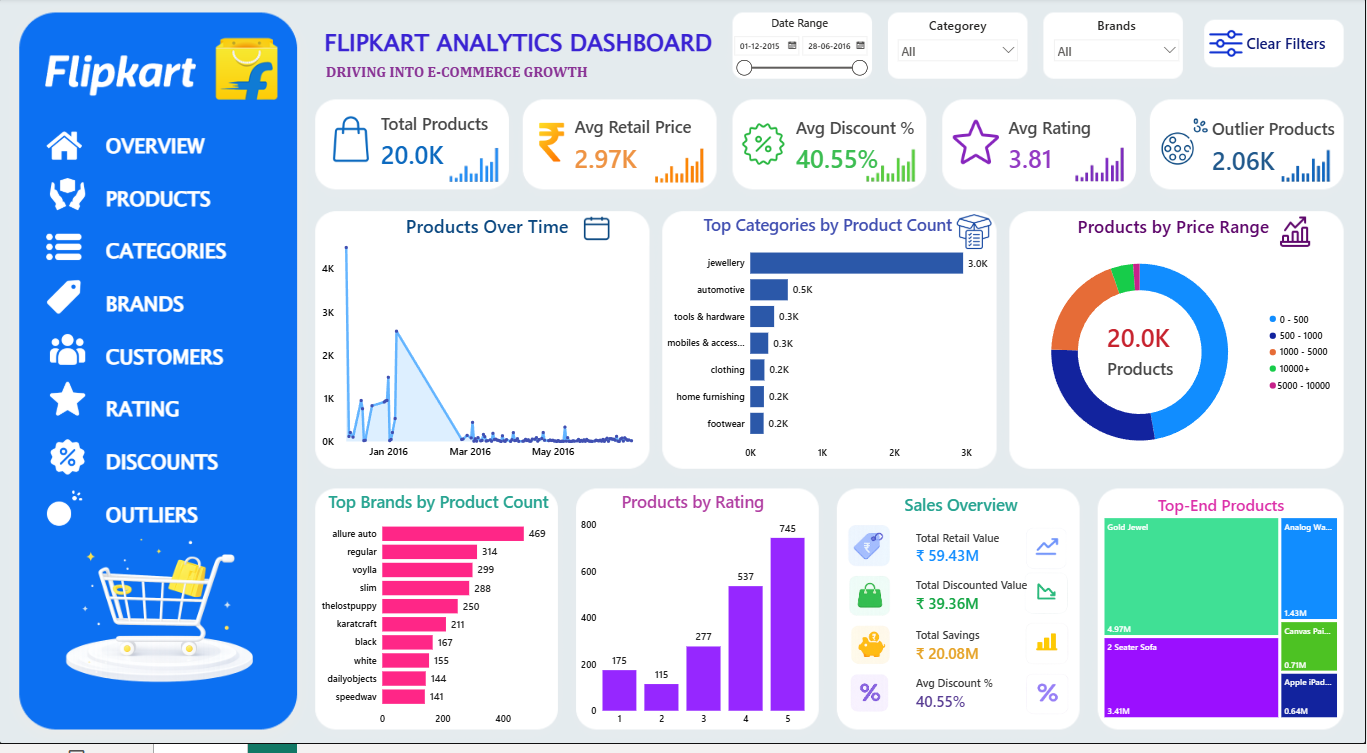

The page's visual inventory and layout, read from the dashboard file:
{"tool":"powerbi","page":{"name":"Page 1","canvas":[2200,1200],"ordinal":0},"visuals":[{"type":"image","box":[55.3,0,413.5,227.2],"z":0},{"type":"cardVisual","fields":{"Data":["flipkart_products.Outlier Products"]},"box":[1922.3,173.1,269.4,132.7],"z":0,"group":"g6"},{"type":"cardVisual","fields":{"Data":["flipkart_products.Avg Overall Rating"]},"box":[1594.5,180.9,285.5,112.6],"z":0,"group":"g5"},{"type":"image","box":[54.2,209.1,101,56.8],"z":0,"group":"g1"},{"type":"textbox","box":[494.6,40.2,671.6,74.4],"z":1000},{"type":"image","box":[1870,172.9,74.4,116.6],"z":1000,"group":"g6"},{"type":"image","box":[1534.2,174.9,74.4,116.6],"z":1000,"group":"g5"},{"type":"image","box":[54.2,372.4,100,56.8],"z":1000,"group":"g1"},{"type":"textbox","box":[520.8,98.5,671.6,80.4],"z":2000},{"type":"image","box":[2020.8,223.2,162.9,92.5],"z":2000,"group":"g6"},{"type":"image","box":[1636.7,225.2,267.4,92.5],"z":2000,"group":"g5"},{"type":"image","box":[60.2,289.8,100.5,56.8],"z":2000,"group":"g1"},{"type":"textbox","box":[166.9,209.1,295.6,796.3],"z":3000},{"type":"image","box":[54.2,453.1,100,56.8],"z":3000,"group":"g1"},{"type":"group","id":"g1","title":"Group 1","box":[54.2,209.1,106.6,639.4],"z":4000},{"type":"image","box":[60.2,537.7,100.5,56.8],"z":4000,"group":"g1"},{"type":"image","box":[60.2,616.4,100.5,57.1],"z":5000,"group":"g1"},{"type":"image","box":[0,792.2,520.8,408.2],"z":5000},{"type":"group","id":"g2","title":"Group 2","box":[528.8,168.9,368,148.8],"z":6000},{"type":"cardVisual","fields":{"Data":["flipkart_products.Total Products"]},"box":[585.1,168.9,271.4,124.7],"z":6000,"group":"g2"},{"type":"cardVisual","fields":{"Data":["flipkart_products.Avg Retail Price"]},"box":[896.7,179,271.4,114.6],"z":6000,"group":"g3"},{"type":"image","box":[60.2,708.8,100.5,57.1],"z":6000,"group":"g1"},{"type":"group","id":"g3","title":"Group 3","box":[850.5,166.9,378,148.8],"z":7000},{"type":"image","box":[850.5,166.9,76.4,130.7],"z":7000,"group":"g3"},{"type":"image","box":[528.8,168.9,74.4,116],"z":7000,"group":"g2"},{"type":"image","box":[56.2,791.5,98.5,57.1],"z":7000,"group":"g1"},{"type":"cardVisual","fields":{"Data":["flipkart_products.Avg Discount %"]},"box":[1252.7,172.9,253.4,128.7],"z":8000,"group":"g4"},{"type":"image","box":[1300.9,223.2,267.4,92.5],"z":8000},{"type":"image","box":[625.3,225.2,271.4,92.5],"z":8000,"group":"g2"},{"type":"group","id":"g4","title":"Group 4","box":[1192.4,172.9,313.7,128.7],"z":9000},{"type":"image","box":[961.1,223.2,267.4,92.5],"z":9000,"group":"g3"},{"type":"group","id":"g5","title":"Group 5","box":[1534.2,174.9,370,142.8],"z":10000},{"type":"image","box":[1192.4,176.9,74.4,116.6],"z":10000,"group":"g4"},{"type":"group","id":"g6","title":"Group 6","box":[1870,172.9,321.8,142.8],"z":11000},{"type":"lineChart","title":"Products Over Time","fields":{"Y":["CountNonNull(flipkart_products.uniq_id)"],"Category":["flipkart_products.Crawl Date"]},"box":[512.7,345.8,544.9,406.2],"z":12000},{"type":"image","box":[933,347.9,56.3,44.2],"z":13000},{"type":"clusteredBarChart","title":"Top Categories by Product Count","fields":{"Category":["flipkart_products.Main Category"],"Y":["CountNonNull(flipkart_products.uniq_id)"]},"box":[1057.6,345.8,550.9,406.2],"z":14000},{"type":"donutChart","title":"Products by Price Range","fields":{"Y":["CountNonNull(flipkart_products.uniq_id)"],"Category":["flipkart_products.Price Range"]},"box":[1622.7,347.9,532.8,404.2],"z":15000},{"type":"cardVisual","fields":{"Data":["flipkart_products.Total Products"]},"box":[1753.4,484.6,168.9,162.9],"z":16000},{"type":"image","box":[1534.2,347.9,68.4,56.3],"z":17000},{"type":"image","box":[2050.9,349.9,68.4,52.3],"z":18000},{"type":"clusteredBarChart","title":"Top Brands by Product Count","fields":{"Y":["CountNonNull(flipkart_products.uniq_id)"],"Category":["flipkart_products.Brand Clean"]},"box":[512.7,792.2,388.1,388.1],"z":19000},{"type":"clusteredColumnChart","title":"Products by Rating","fields":{"Category":["flipkart_products.Rating Category"],"Y":["CountNonNull(flipkart_products.uniq_id)"]},"box":[931,792.2,370,388.1],"z":20000},{"type":"cardVisual","fields":{"Data":["flipkart_products.Total Retail Value"]},"box":[1445.7,844.5,291.6,80.4],"z":21000},{"type":"textbox","box":[1379.4,792.2,335.8,56.3],"z":22000},{"type":"cardVisual","fields":{"Data":["flipkart_products.Total Discounted Value"]},"box":[1445.7,914.9,291.6,90.5],"z":23000},{"type":"cardVisual","fields":{"Data":["flipkart_products.Total Savings"]},"box":[1445.7,999.3,291.6,84.5],"z":24000},{"type":"cardVisual","fields":{"Data":["flipkart_products.Avg Discount %"]},"box":[1445.7,1057.6,221.2,122.7],"z":25000},{"type":"image","box":[1365.3,844.5,70.4,72.4],"z":26000},{"type":"image","box":[1365.3,924.9,70.4,72.4],"z":27000},{"type":"image","box":[1365.3,1003.4,70.4,72.4],"z":28000},{"type":"image","box":[1365.3,1081.8,70.4,72.4],"z":29000},{"type":"image","box":[1648.8,848.5,70.4,72.4],"z":30000},{"type":"image","box":[1648.8,920.9,70.4,72.4],"z":31000},{"type":"image","box":[1650.8,1003.4,70.4,72.4],"z":32000},{"type":"image","box":[1650.8,1083.8,70.4,72.4],"z":33000},{"type":"treemap","title":"Top-End Products","fields":{"Group":["flipkart_products.Clean Product Name"],"Values":["Sum(flipkart_products.retail_price)"]},"box":[1773.5,798.3,384.1,363.9],"z":34000},{"type":"slicer","title":"Date Range","fields":{"Values":["flipkart_products.Crawl Date"]},"box":[1170.2,24.1,235.3,110.6],"z":35000},{"type":"slicer","title":"Categorey","fields":{"Values":["flipkart_products.product_category_tree"]},"box":[1435.7,30.2,213.1,90.5],"z":36000},{"type":"slicer","title":"Brands","fields":{"Values":["flipkart_products.brand"]},"box":[1687,30.2,221.2,84.5],"z":37000},{"type":"actionButton","box":[1981.8,41.2,175.3,59.8],"z":38000},{"type":"image","box":[1944.7,45.4,57.7,53.6],"z":39000}]}

Visuals, with their boxes in screenshot pixels (x1, y1, x2, y2), scaled from the page's 2200x1200 canvas onto the 1367x753 screenshot:
image: <bbox>34, 0, 291, 143</bbox>
cardVisual - flipkart_products.Outlier Products: <bbox>1194, 109, 1362, 192</bbox>
cardVisual - flipkart_products.Avg Overall Rating: <bbox>991, 114, 1168, 184</bbox>
image: <bbox>34, 131, 96, 167</bbox>
textbox: <bbox>307, 25, 725, 72</bbox>
image: <bbox>1162, 108, 1208, 182</bbox>
image: <bbox>953, 110, 1000, 183</bbox>
image: <bbox>34, 234, 96, 269</bbox>
textbox: <bbox>324, 62, 741, 112</bbox>
image: <bbox>1256, 140, 1357, 198</bbox>
image: <bbox>1017, 141, 1183, 199</bbox>
image: <bbox>37, 182, 100, 217</bbox>
textbox: <bbox>104, 131, 287, 631</bbox>
image: <bbox>34, 284, 96, 320</bbox>
"Group 1" group: <bbox>34, 131, 100, 532</bbox>
image: <bbox>37, 337, 100, 373</bbox>
image: <bbox>37, 387, 100, 423</bbox>
image: <bbox>0, 497, 324, 752</bbox>
"Group 2" group: <bbox>329, 106, 557, 199</bbox>
cardVisual - flipkart_products.Total Products: <bbox>364, 106, 532, 184</bbox>
cardVisual - flipkart_products.Avg Retail Price: <bbox>557, 112, 726, 184</bbox>
image: <bbox>37, 445, 100, 481</bbox>
"Group 3" group: <bbox>528, 105, 763, 198</bbox>
image: <bbox>528, 105, 576, 187</bbox>
image: <bbox>329, 106, 375, 179</bbox>
image: <bbox>35, 497, 96, 532</bbox>
cardVisual - flipkart_products.Avg Discount %: <bbox>778, 108, 936, 189</bbox>
image: <bbox>808, 140, 974, 198</bbox>
image: <bbox>389, 141, 557, 199</bbox>
"Group 4" group: <bbox>741, 108, 936, 189</bbox>
image: <bbox>597, 140, 763, 198</bbox>
"Group 5" group: <bbox>953, 110, 1183, 199</bbox>
image: <bbox>741, 111, 787, 184</bbox>
"Group 6" group: <bbox>1162, 108, 1362, 198</bbox>
"Products Over Time" lineChart: <bbox>319, 217, 657, 472</bbox>
image: <bbox>580, 218, 615, 246</bbox>
"Top Categories by Product Count" clusteredBarChart: <bbox>657, 217, 999, 472</bbox>
"Products by Price Range" donutChart: <bbox>1008, 218, 1339, 472</bbox>
cardVisual - flipkart_products.Total Products: <bbox>1089, 304, 1194, 406</bbox>
image: <bbox>953, 218, 996, 254</bbox>
image: <bbox>1274, 220, 1317, 252</bbox>
"Top Brands by Product Count" clusteredBarChart: <bbox>319, 497, 560, 741</bbox>
"Products by Rating" clusteredColumnChart: <bbox>578, 497, 808, 741</bbox>
cardVisual - flipkart_products.Total Retail Value: <bbox>898, 530, 1079, 580</bbox>
textbox: <bbox>857, 497, 1066, 532</bbox>
cardVisual - flipkart_products.Total Discounted Value: <bbox>898, 574, 1079, 631</bbox>
cardVisual - flipkart_products.Total Savings: <bbox>898, 627, 1079, 680</bbox>
cardVisual - flipkart_products.Avg Discount %: <bbox>898, 664, 1036, 741</bbox>
image: <bbox>848, 530, 892, 575</bbox>
image: <bbox>848, 580, 892, 626</bbox>
image: <bbox>848, 630, 892, 675</bbox>
image: <bbox>848, 679, 892, 724</bbox>
image: <bbox>1025, 532, 1068, 578</bbox>
image: <bbox>1025, 578, 1068, 623</bbox>
image: <bbox>1026, 630, 1069, 675</bbox>
image: <bbox>1026, 680, 1069, 726</bbox>
"Top-End Products" treemap: <bbox>1102, 501, 1341, 729</bbox>
"Date Range" slicer: <bbox>727, 15, 873, 85</bbox>
"Categorey" slicer: <bbox>892, 19, 1025, 76</bbox>
"Brands" slicer: <bbox>1048, 19, 1186, 72</bbox>
actionButton: <bbox>1231, 26, 1340, 63</bbox>
image: <bbox>1208, 28, 1244, 62</bbox>
